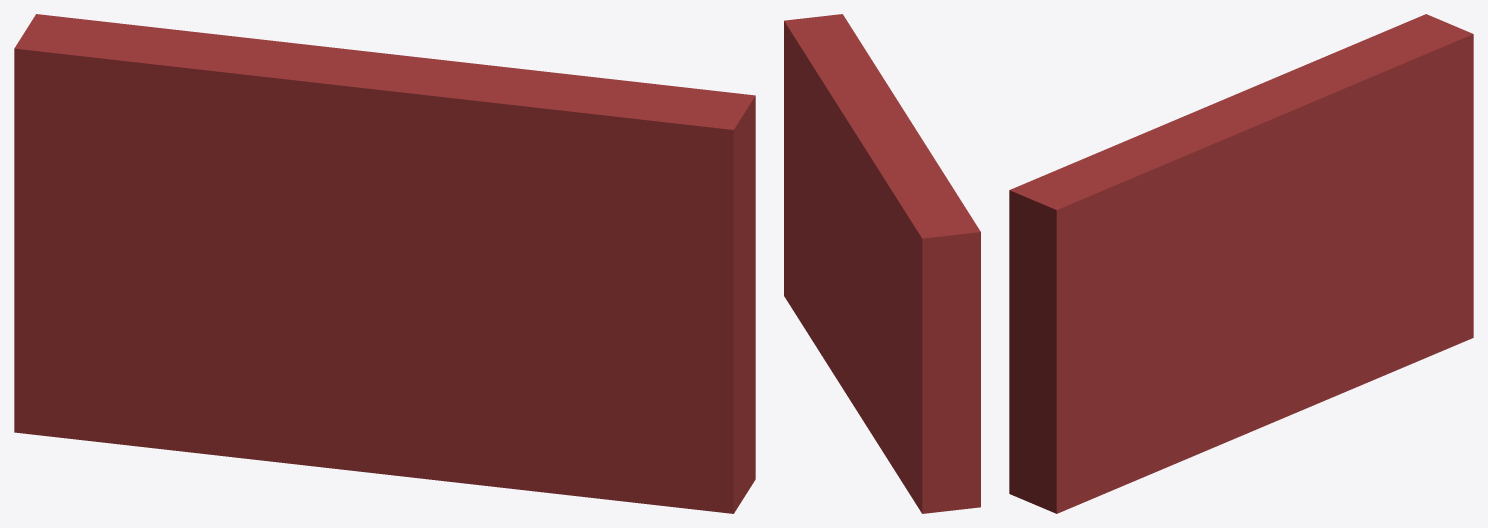
The model's file is Door_0002.fbx.
3 views of the same model, side by side, from view 1: azimuth 30°, elevation 25°; view 2: azimuth 150°, elevation 25°; view 3: azimuth 270°, elevation 25° (orthographic). The views are drawn at different scales.
Visible parts, largest first — view 1: polySurface486; view 2: polySurface486; view 3: polySurface486.
Part boxes in pixels (bbox=[...]): polySurface486: bbox=[14, 14, 755, 513]; polySurface486: bbox=[784, 14, 980, 513]; polySurface486: bbox=[1009, 14, 1473, 513].
Size of the model in its own units: 415 by 300 by 415.
